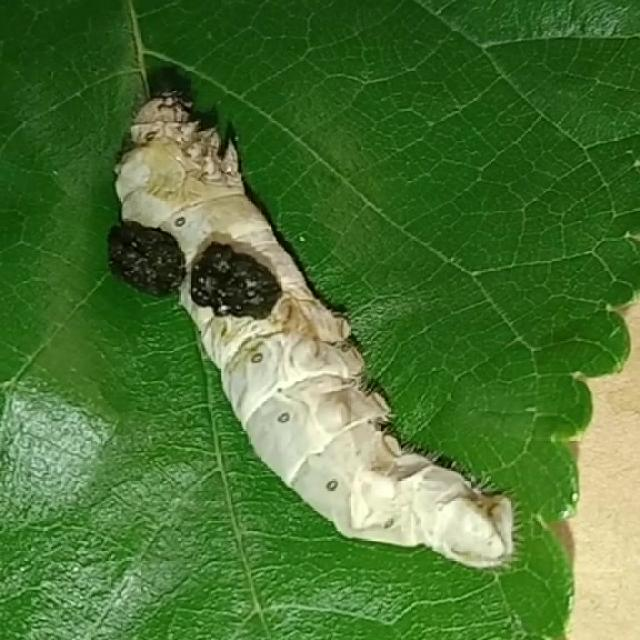Grasserie: (104, 76, 540, 592)
